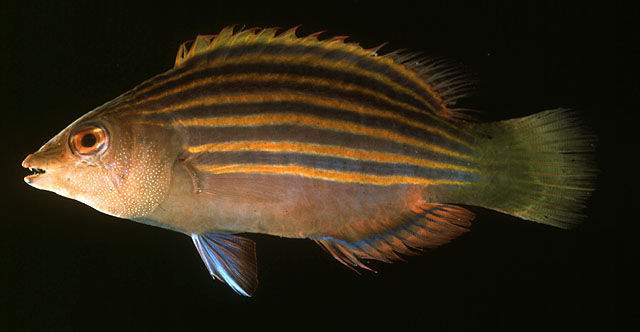fish: (20, 25, 594, 298)
